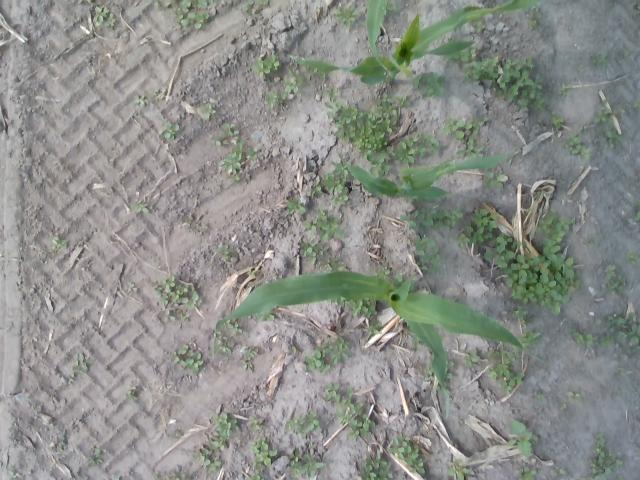Maize: (211, 272, 548, 420), (286, 0, 541, 86), (337, 152, 509, 198), (366, 0, 388, 72)
Weeds: (484, 250, 582, 314), (491, 57, 544, 109), (354, 92, 396, 154), (386, 435, 424, 474), (588, 446, 622, 480), (488, 363, 525, 394), (508, 420, 538, 458), (356, 455, 393, 480), (462, 55, 498, 80), (318, 337, 351, 364), (336, 390, 362, 424), (284, 413, 320, 437), (472, 206, 498, 238), (414, 72, 446, 96), (299, 454, 326, 479), (254, 438, 278, 466), (212, 410, 235, 436), (304, 352, 331, 374), (220, 151, 243, 174), (446, 459, 471, 480), (542, 228, 562, 254), (618, 323, 640, 346), (442, 117, 464, 140), (178, 12, 209, 28), (367, 156, 391, 176), (442, 206, 466, 226), (331, 7, 356, 26), (232, 140, 255, 160), (396, 141, 414, 166), (454, 142, 482, 158), (337, 103, 358, 124), (421, 134, 442, 155), (180, 353, 202, 373), (334, 123, 358, 141), (158, 121, 180, 140), (318, 383, 340, 401), (241, 346, 256, 372), (92, 7, 110, 28), (484, 172, 506, 189), (194, 448, 212, 468), (360, 414, 375, 436), (72, 354, 88, 374), (286, 198, 304, 215), (512, 304, 527, 324), (528, 9, 542, 30), (86, 448, 102, 466), (596, 118, 612, 136), (466, 226, 484, 242), (499, 350, 521, 363), (465, 350, 479, 370), (520, 332, 540, 346), (348, 419, 360, 442), (322, 173, 338, 190), (253, 60, 270, 76), (288, 67, 304, 84), (330, 218, 344, 237), (250, 464, 266, 480), (160, 275, 176, 291), (200, 102, 216, 118), (497, 234, 513, 250), (555, 216, 573, 230), (535, 218, 553, 232), (608, 314, 626, 328), (303, 218, 318, 234), (519, 466, 536, 480), (319, 258, 340, 269), (222, 123, 241, 135), (212, 436, 228, 450), (208, 457, 222, 473), (123, 386, 137, 402), (325, 101, 339, 117), (333, 161, 348, 175), (286, 77, 300, 92), (149, 282, 162, 298), (132, 94, 148, 107), (453, 49, 469, 62), (570, 328, 583, 344), (310, 178, 321, 196), (606, 278, 624, 289), (454, 233, 468, 247), (264, 56, 279, 69), (593, 110, 608, 123), (227, 322, 243, 334), (580, 144, 592, 160), (471, 114, 488, 125), (594, 53, 608, 66), (290, 450, 300, 468), (188, 290, 198, 308), (300, 242, 312, 257), (550, 111, 562, 126), (179, 312, 190, 328), (331, 195, 350, 204), (487, 348, 499, 362), (208, 134, 222, 146), (324, 88, 338, 100), (405, 134, 419, 146), (566, 134, 580, 146), (320, 225, 329, 243), (216, 344, 232, 354), (594, 433, 606, 446), (247, 418, 260, 430), (104, 13, 116, 26), (179, 0, 191, 13), (265, 92, 278, 104), (134, 203, 148, 214), (257, 312, 274, 321), (550, 467, 566, 476), (306, 68, 318, 80), (310, 238, 318, 256), (190, 0, 208, 8), (164, 310, 175, 322), (317, 208, 328, 220), (613, 104, 625, 115), (445, 360, 455, 373), (216, 331, 226, 344), (317, 220, 330, 230), (474, 21, 484, 34), (566, 390, 582, 398), (605, 265, 616, 276), (424, 370, 434, 382), (175, 284, 187, 294), (216, 244, 228, 254), (173, 8, 183, 20), (488, 66, 498, 78), (160, 293, 168, 307), (126, 282, 137, 292), (397, 96, 409, 105), (414, 145, 426, 154), (634, 200, 640, 218), (292, 464, 299, 479), (178, 344, 188, 354), (318, 245, 328, 255), (609, 128, 619, 138), (546, 208, 556, 218), (462, 122, 473, 131), (172, 351, 180, 363), (176, 296, 188, 304), (586, 333, 593, 346), (537, 393, 547, 402), (572, 144, 581, 154), (562, 86, 571, 96), (628, 253, 638, 262), (171, 472, 182, 480), (7, 468, 15, 478), (170, 292, 178, 302), (604, 140, 614, 148), (601, 338, 614, 344), (603, 96, 610, 107), (472, 123, 479, 134), (513, 238, 520, 249), (338, 174, 347, 182), (247, 270, 256, 278), (536, 190, 542, 202), (162, 0, 172, 7), (628, 312, 635, 322), (320, 71, 328, 79), (336, 184, 344, 192), (587, 236, 596, 243), (616, 383, 622, 393), (470, 48, 475, 60), (228, 338, 235, 346), (248, 0, 255, 8), (154, 89, 162, 96), (464, 137, 472, 144), (242, 3, 248, 12), (590, 319, 600, 324), (616, 366, 624, 372), (561, 402, 567, 410), (155, 472, 161, 480), (290, 346, 296, 354), (580, 124, 588, 130), (154, 1, 160, 8), (624, 50, 631, 56), (221, 256, 229, 261), (260, 0, 268, 5), (446, 373, 452, 379), (188, 350, 194, 356), (579, 64, 583, 73), (387, 4, 393, 10), (312, 256, 316, 264), (235, 174, 240, 180), (633, 104, 640, 108), (282, 93, 286, 100), (622, 370, 628, 374), (208, 0, 214, 4)
